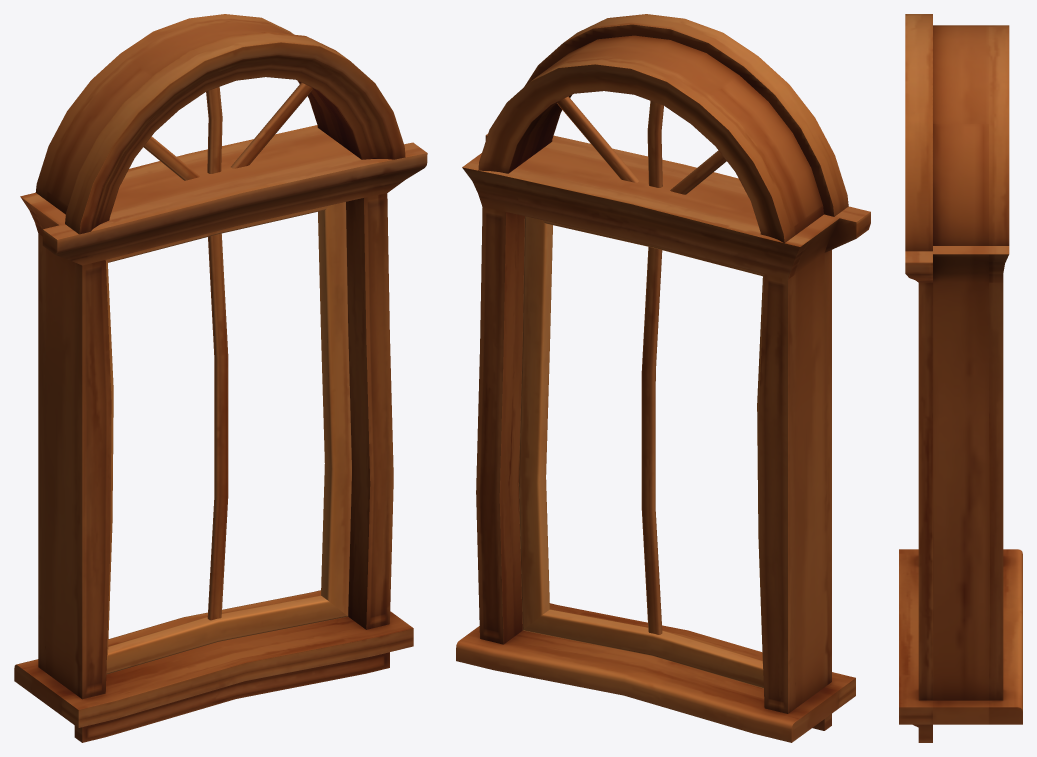
File: PropWindow01TypeG_2_2.FBX
The picture shows the model from 3 angles, left to right: view 1: azimuth 30°, elevation 25°; view 2: azimuth 150°, elevation 25°; view 3: azimuth 270°, elevation 25°; orthographic projection. The views are drawn at different scales.
Visible parts, largest first — view 1: PropWindow01TypeG_2_2; view 2: PropWindow01TypeG_2_2; view 3: PropWindow01TypeG_2_2.
Boxes of the visible parts, x1,y1,x2,y2 form: PropWindow01TypeG_2_2: (14,14,427,742); PropWindow01TypeG_2_2: (456,14,870,742); PropWindow01TypeG_2_2: (899,14,1022,742).
Size of what is drawn, in the model's own units: 1.48 by 2.54 by 0.4449.
